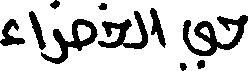X: (184, 15, 216, 70), (47, 0, 66, 68), (218, 10, 247, 54), (103, 0, 127, 52), (72, 14, 95, 55), (29, 6, 45, 64), (0, 14, 22, 50), (152, 3, 164, 52), (135, 6, 146, 53)
